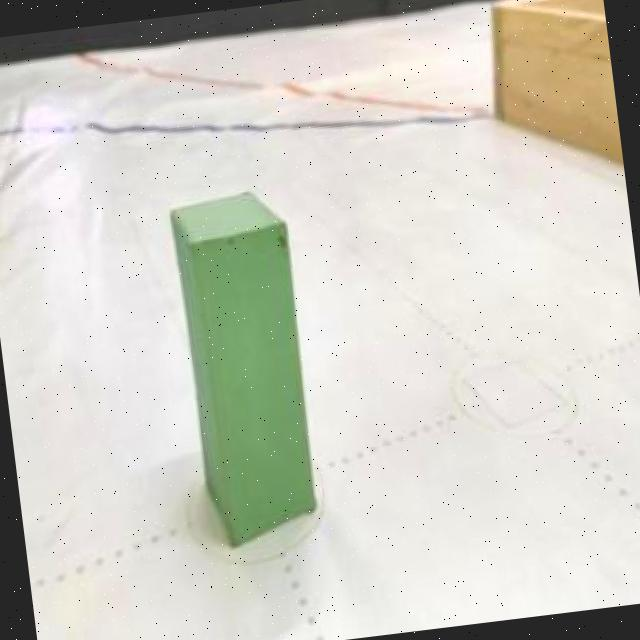greenbox: (162, 182, 328, 558)
